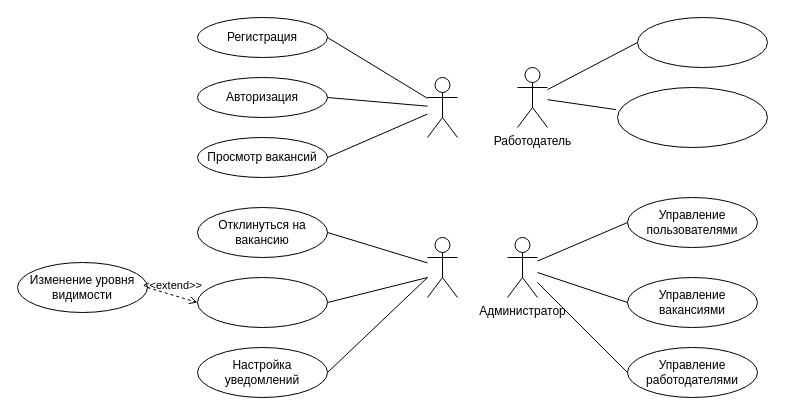
Image size: 785x415. Some labels were removed from this diagram. The shapes that lost their labels are listed below. From the top down, each one's centre as x and y in pixels, then its label:
At [702,42]: "Верификация компании".
At [442,107]: "Гость".
At [692,117]: "Управление вакансиями компании".
At [442,267]: "Искатель".
At [262,302]: "Управление резюме".
